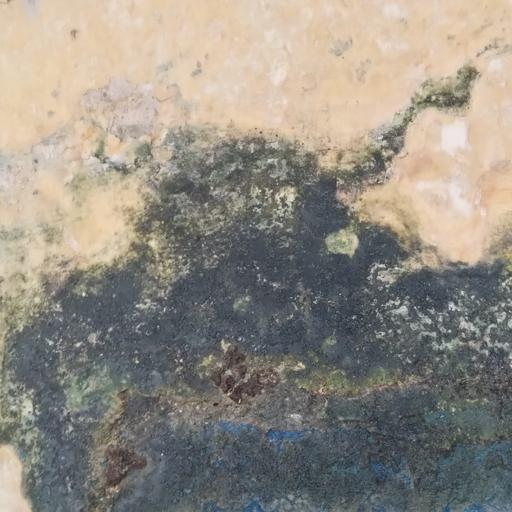algae: (25, 113, 512, 512)
